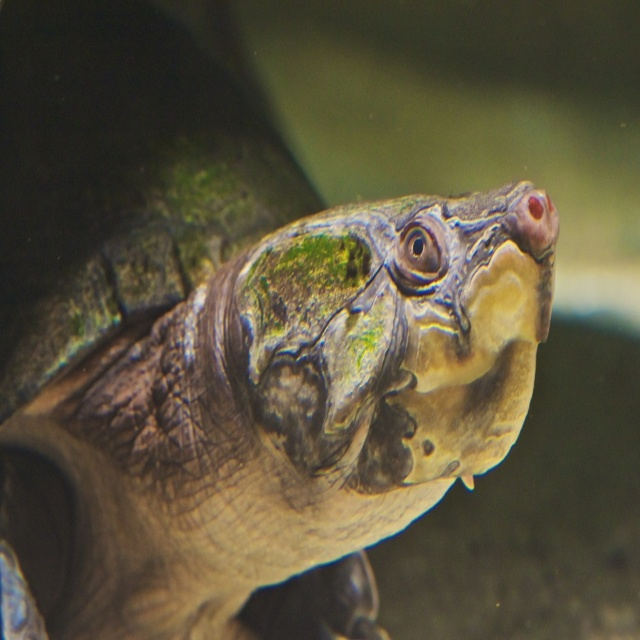Fish: (0, 186, 559, 639)
